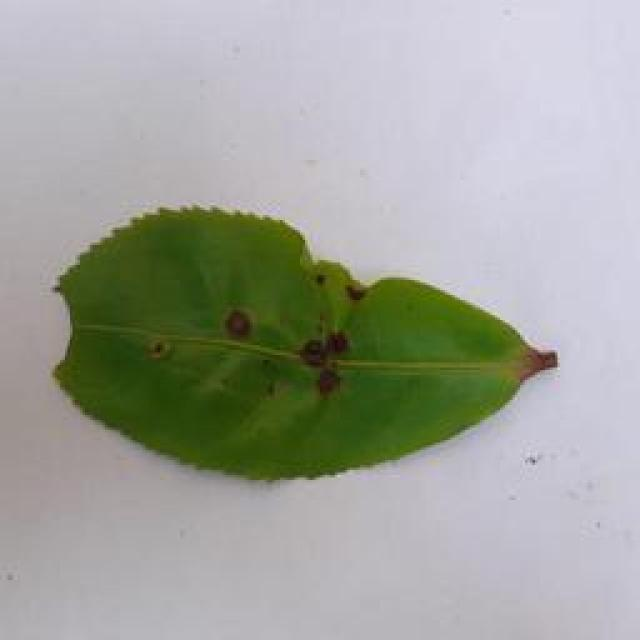Helopeltis: (2, 193, 584, 500)
